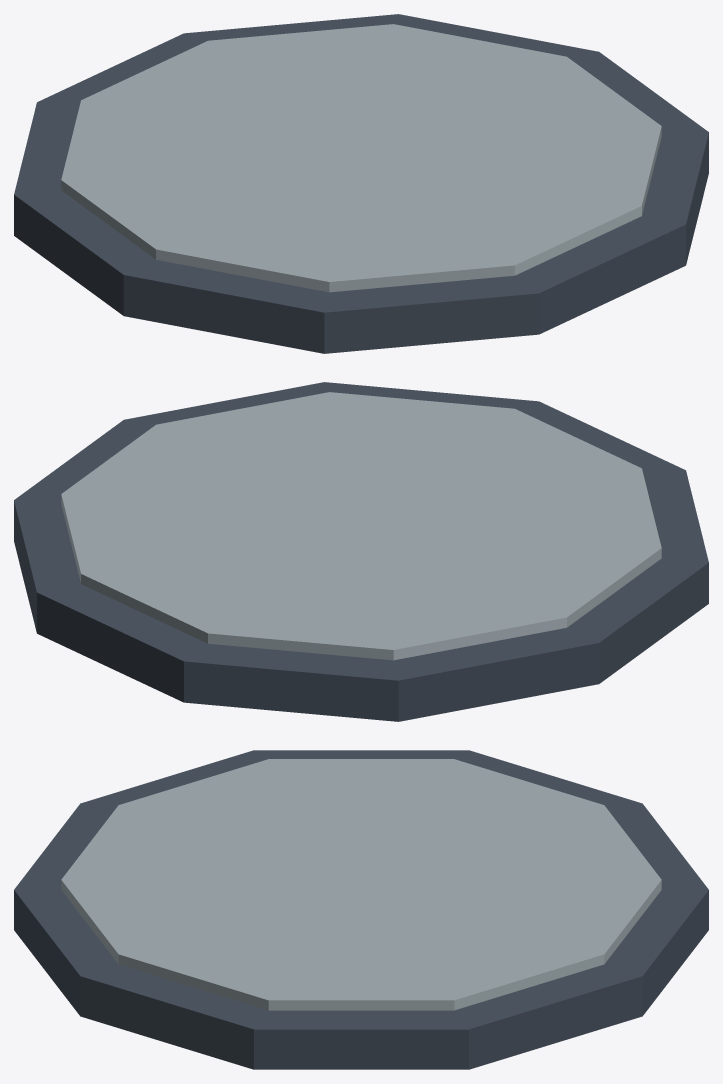
The model's file is glacier-station.glb.
The picture shows the model from 3 angles, top to bottom: view 1: azimuth 30°, elevation 25°; view 2: azimuth 150°, elevation 25°; view 3: azimuth 270°, elevation 25°; orthographic projection. The views are drawn at different scales.
Visible parts, largest first — view 1: glacier-station; view 2: glacier-station; view 3: glacier-station.
Boxes of the visible parts, x1,y1,x2,y2 form: glacier-station: [14, 14, 708, 353]; glacier-station: [14, 382, 708, 721]; glacier-station: [14, 750, 708, 1069].
Size of the model in its own units: 2.38 by 0.2 by 2.5.
